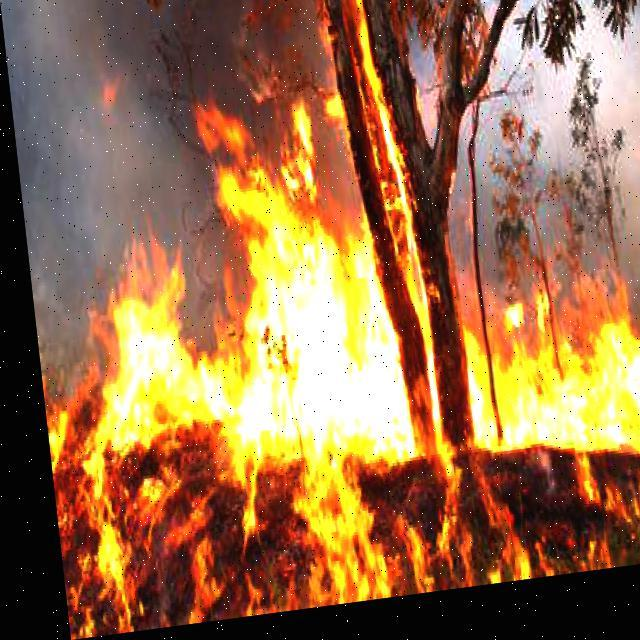Fire: (7, 0, 639, 639)
